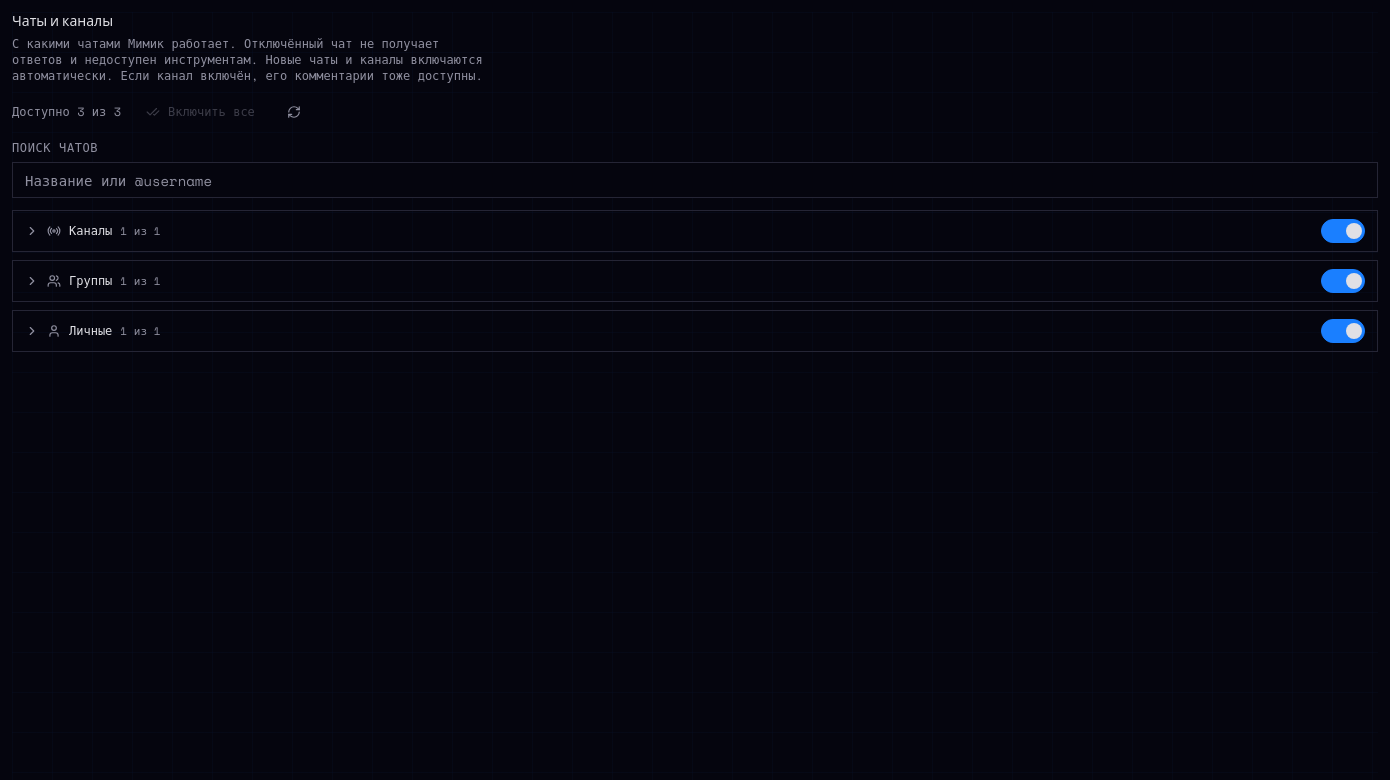
Test: ChatsSettings › поиск по названию и @username раскрывает группы
This screenshot has width=1390, height=780.
Expected: the text "Доступно 3 из 3" is shown, [12,104,121,120]
In the field labelled "Поиск чатов": [695, 180] box [12,162,1378,198], type "@daily_news"
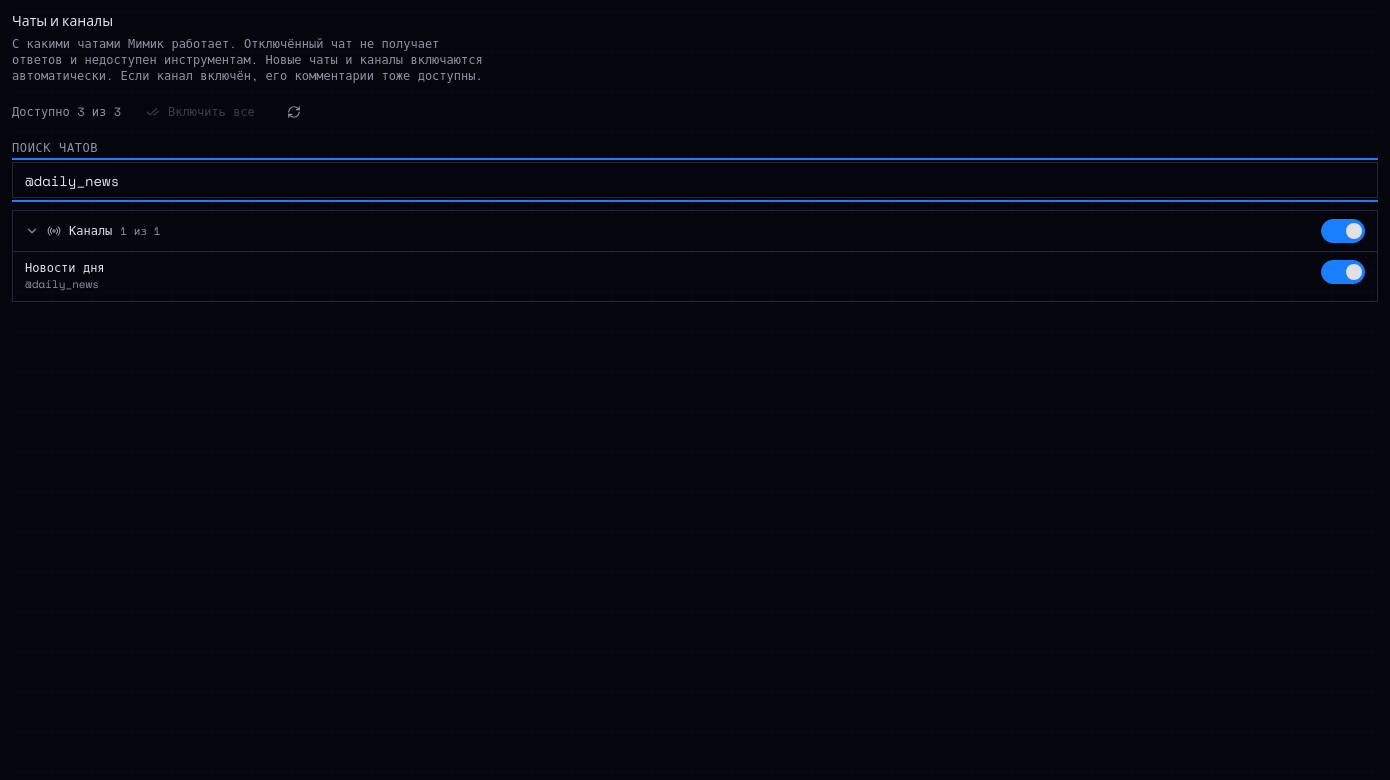
Expected: the switch named "Новости дня" is shown, [1321,260,1365,284]
